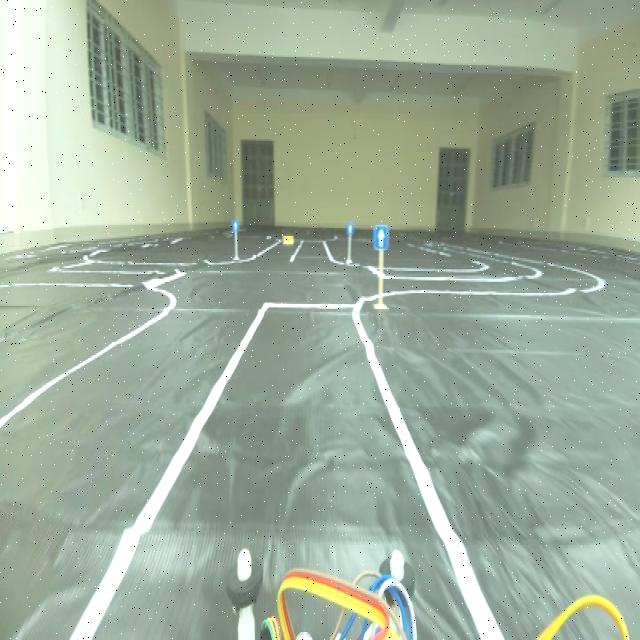onewayroad: (373, 220, 387, 252), (229, 218, 242, 237), (344, 219, 352, 234)
roadblock: (280, 230, 296, 248)
